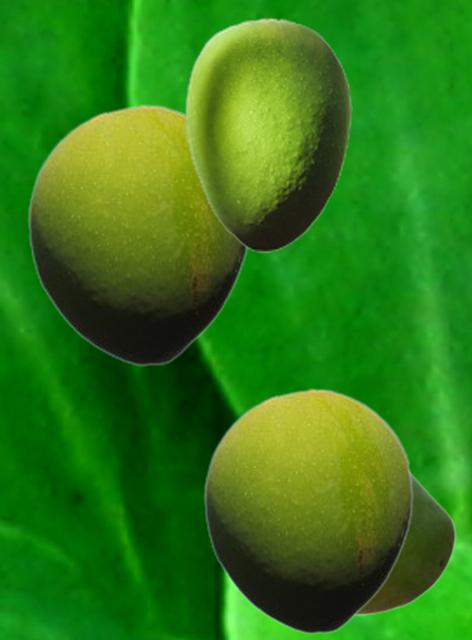green_mango: (27, 104, 251, 366), (203, 388, 413, 634), (184, 17, 351, 251), (357, 473, 455, 615)
